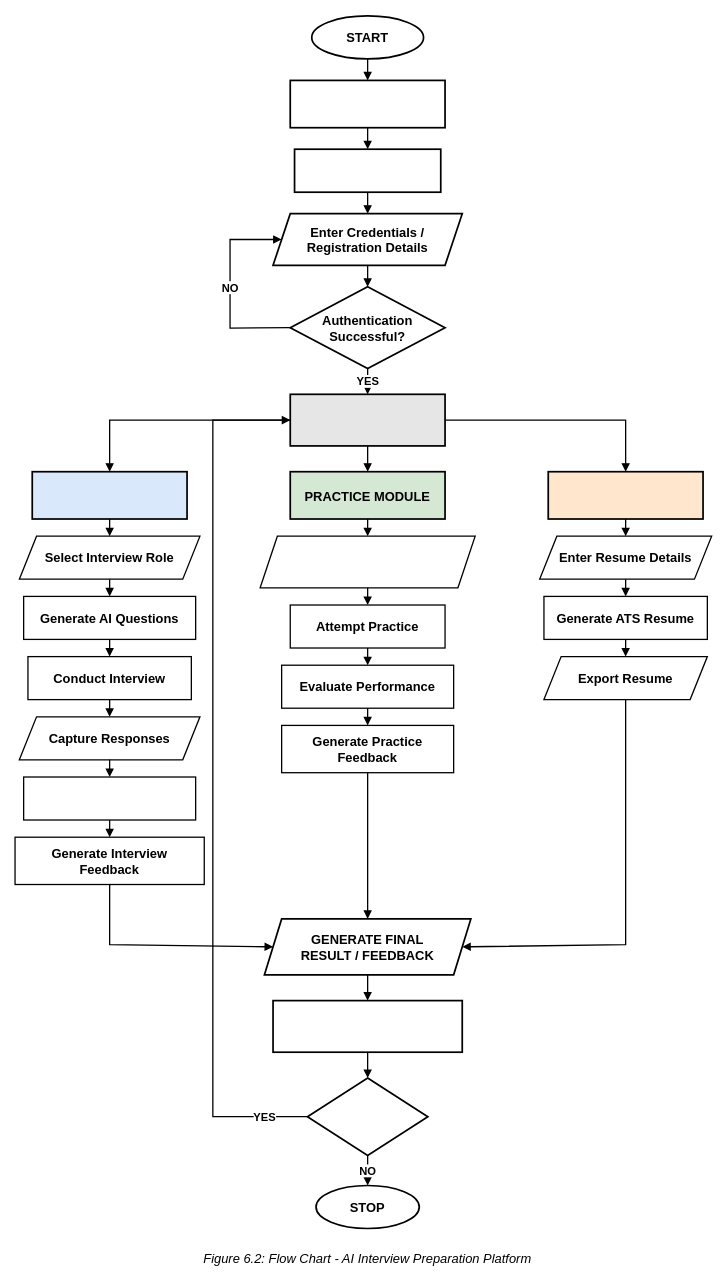
Some shapes in this 728 by 1286 pixel diagram are drawn without their labels. Each missing label, with the centre of its shape:
"AI INTERVIEW MODULE" belongs at point 109,494.
"AI Response Analysis" belongs at point 109,798.
"Continue?" belongs at point 367,1116.
"DASHBOARD (Select Feature)" belongs at point 367,419.
"DISPLAY HOME PAGE" belongs at point 367,103.
"DISPLAY PERFORMANCE REPORT" belongs at point 367,1026.
"LOGIN / SIGN UP" belongs at point 367,170.
"RESUME BUILDER" belongs at point 625,494.
"Select Practice Type (HR / Technical / Aptitude / Games)" belongs at point 367,561.
